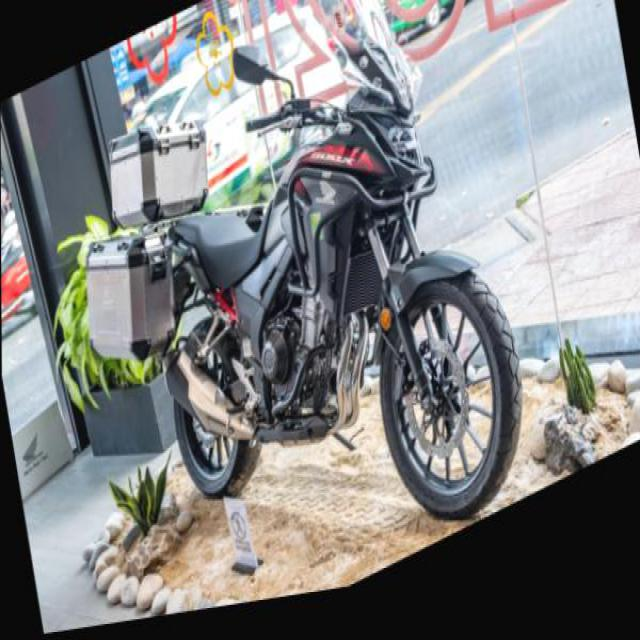CB500X: (122, 0, 543, 624)
